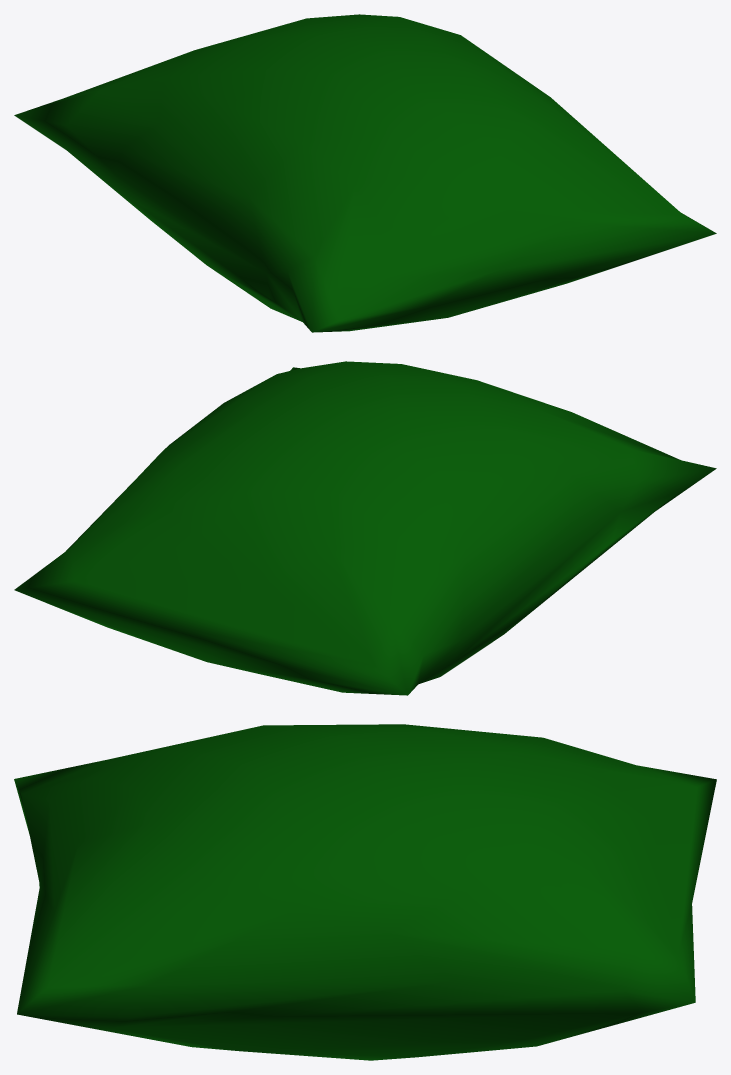
File: sackful02.FBX
3 views of the same model, one above another, from view 1: azimuth 30°, elevation 25°; view 2: azimuth 150°, elevation 25°; view 3: azimuth 270°, elevation 25° (orthographic). The views are drawn at different scales.
Parts seen in each view (by area): view 1: SM_sackful02_0; view 2: SM_sackful02_0; view 3: SM_sackful02_0.
Part boxes in pixels (bbox=[...]): SM_sackful02_0: bbox=[14, 14, 716, 332]; SM_sackful02_0: bbox=[14, 361, 716, 695]; SM_sackful02_0: bbox=[14, 724, 716, 1060].
Size of the model in its own units: 57.6 by 72.99 by 29.05.
